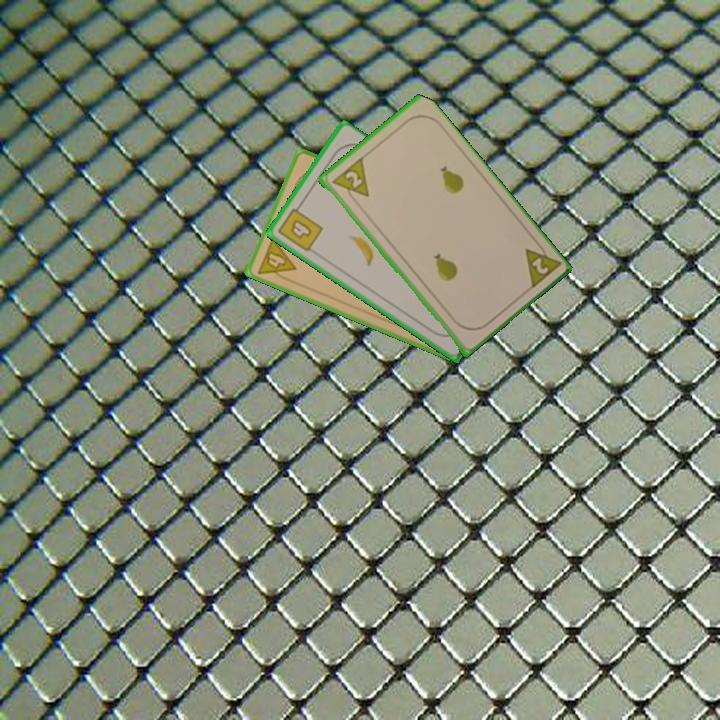2p: (521, 236, 563, 292), (328, 155, 372, 207)
4b: (274, 200, 326, 255)
4p: (254, 234, 298, 285)
